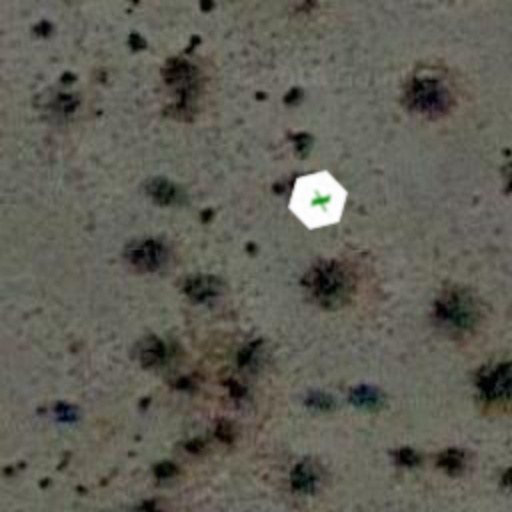hexagon: (278, 160, 358, 240)
